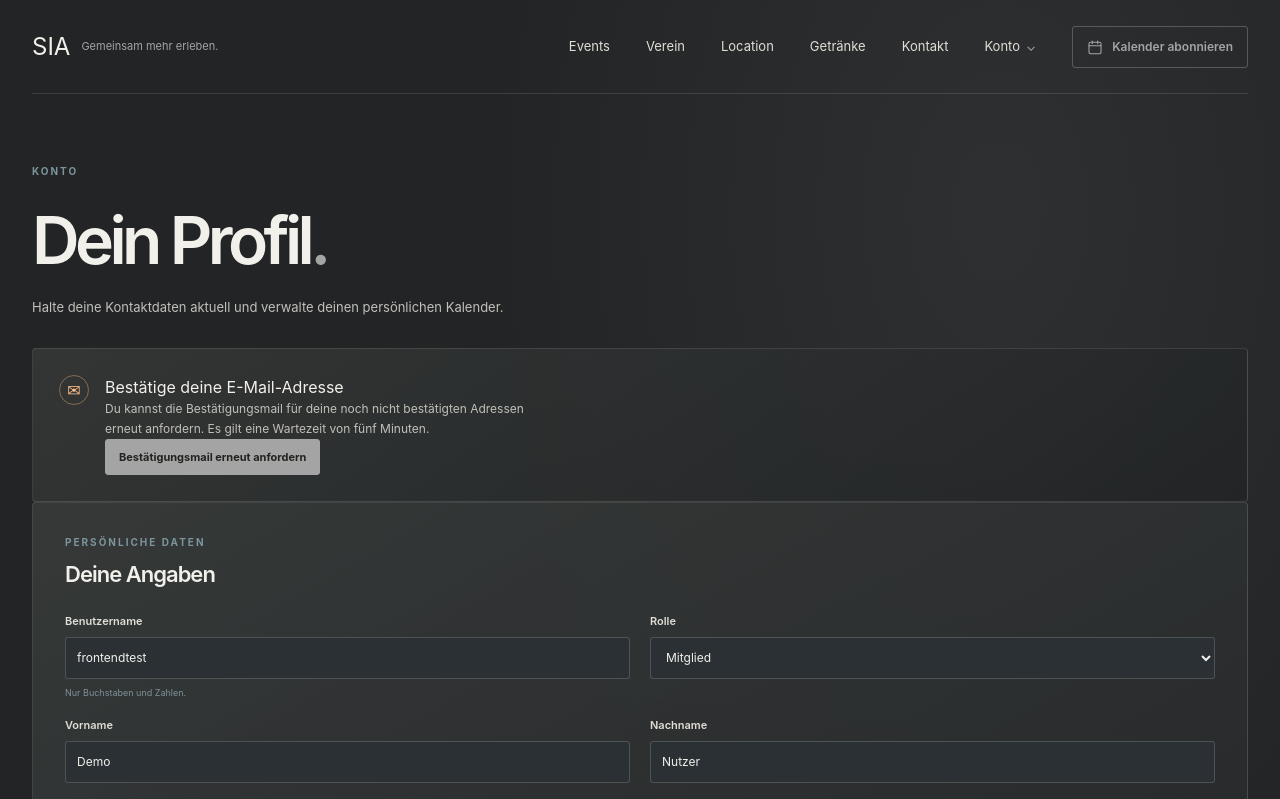
it: events page › requests a verification email for unconfirmed profile addresses
Click the button "Bestätigungsmail erneut anfordern": coordinates (213, 457) x1=105 y1=439 x2=320 y2=475
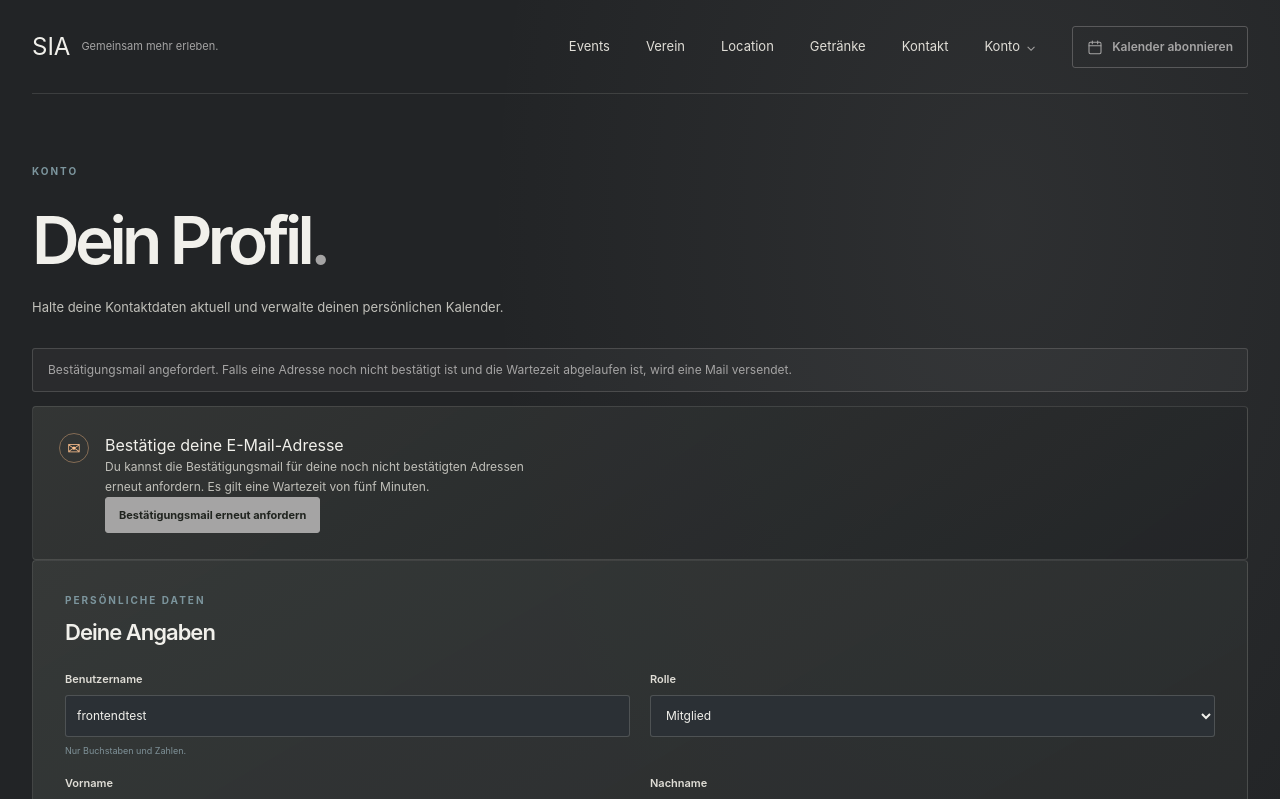
Result: the text "Bestätigungsmail angefordert" is shown at x1=48 y1=362 x2=792 y2=376
